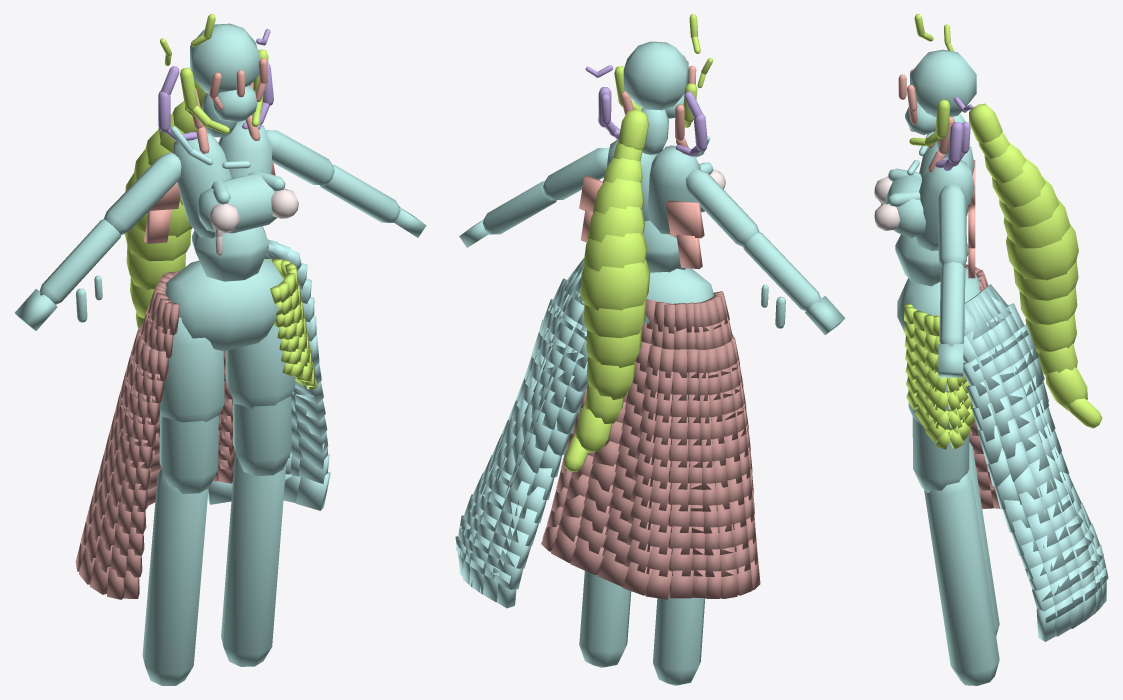
File: Elysia_RigidBodyWorld.fbx
3 renders of one model, left to right at view 1: azimuth 30°, elevation 25°; view 2: azimuth 150°, elevation 25°; view 3: azimuth 270°, elevation 25°, orthographic. The views are drawn at different scales.
Visible parts, largest first — view 1: 00E_右ひざ, 00G_左ひざ, 00C_下半身, 00H_右足1, 00D_右足, 00F_左足, 00I_左足1, 00A_頭_1, 000_上半身, 003_右腕, 001_上半身2_1, 0BZ_上半身2 (+13 smaller); view 2: 00E_右ひざ, 00G_左ひざ, 00A_頭_1, 00P_辫子_6_1, 001_上半身2_1, 003_右腕, 004_右ひじ, 00C_下半身, 00O_辫子_5_1, 006_左腕, 007_左ひじ, 00Q_辫子_7_1 (+24 smaller); view 3: 00G_左ひざ, 00A_頭_1, 00F_左足, 00P_辫子_6_1, 002_上半身2_2, 006_左腕, 007_左ひじ, 000_上半身, 00C_下半身, 00O_辫子_5_1, 00M_辫子_3_1, 0BZ_上半身2 (+58 smaller).
Part boxes in pixels (x1,y1,x2,y2): 00E_右ひざ: (142,469,208,685); 00G_左ひざ: (221,455,285,666); 00C_下半身: (165,259,283,350); 00H_右足1: (159,317,224,422); 00D_右足: (159,412,218,493); 00F_左足: (232,396,291,476); 00I_左足1: (225,325,295,408); 00A_頭_1: (190,23,259,93); 000_上半身: (192,226,268,281); 003_右腕: (104,152,181,234); 001_上半身2_1: (172,132,231,238); 0BZ_上半身2: (197,173,276,233); 00E_右ひざ: (653,597,705,685); 00G_左ひざ: (579,571,631,667); 00A_頭_1: (623,41,688,110); 00P_辫子_6_1: (580,259,650,310); 001_上半身2_1: (648,145,700,237); 003_右腕: (685,169,759,246); 004_右ひじ: (743,232,820,311); 00C_下半身: (644,268,713,323); 00O_辫子_5_1: (583,233,647,271); 006_左腕: (543,147,609,200); 007_左ひじ: (482,181,556,234); 00Q_辫子_7_1: (583,298,646,338); 00G_左ひざ: (924,473,999,685); 00A_頭_1: (910,49,976,116); 00F_左足: (912,416,969,492); 00P_辫子_6_1: (1006,224,1078,280); 002_上半身2_2: (915,157,974,250); 006_左腕: (938,184,966,266); 007_左ひじ: (939,262,965,346); 000_上半身: (895,234,968,286); 00C_下半身: (897,267,979,334); 00O_辫子_5_1: (1003,198,1070,248); 00M_辫子_3_1: (992,157,1045,208); 0BZ_上半身2: (885,174,925,238).
Size of the model in its own units: 96.96 by 160 by 53.03.
